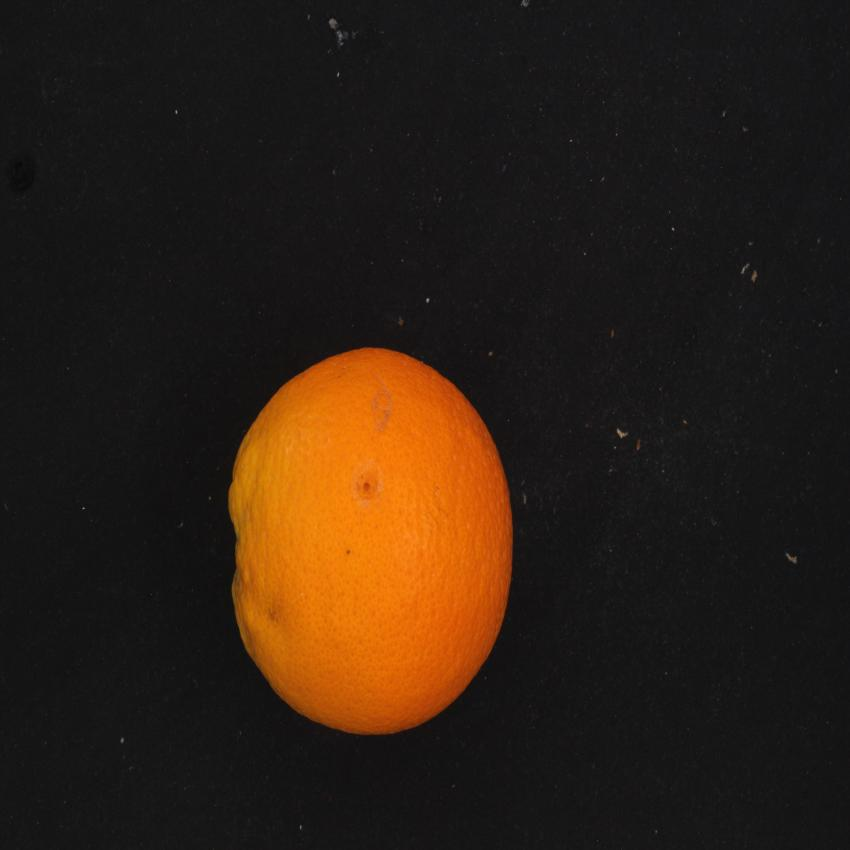Buen estado: (220, 338, 544, 744)
